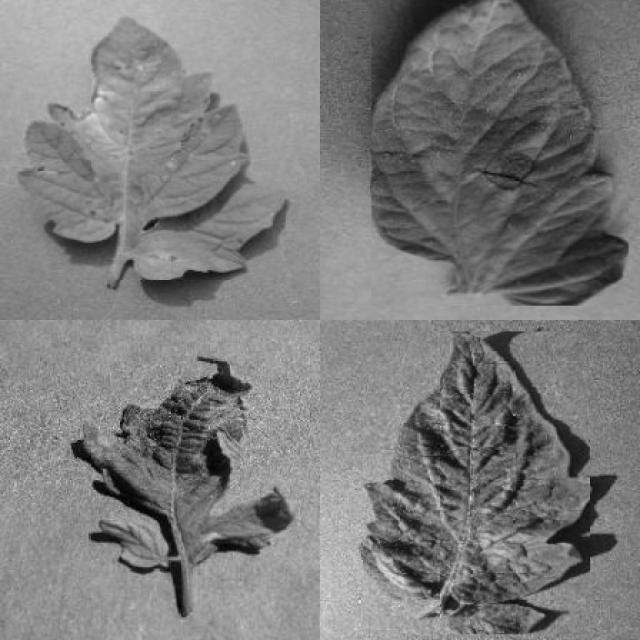Early Blight: (372, 1, 628, 306)
Mosaic Virus: (78, 356, 295, 571)
Septoria: (20, 17, 286, 280)
Spider Mites: (363, 332, 590, 634)
